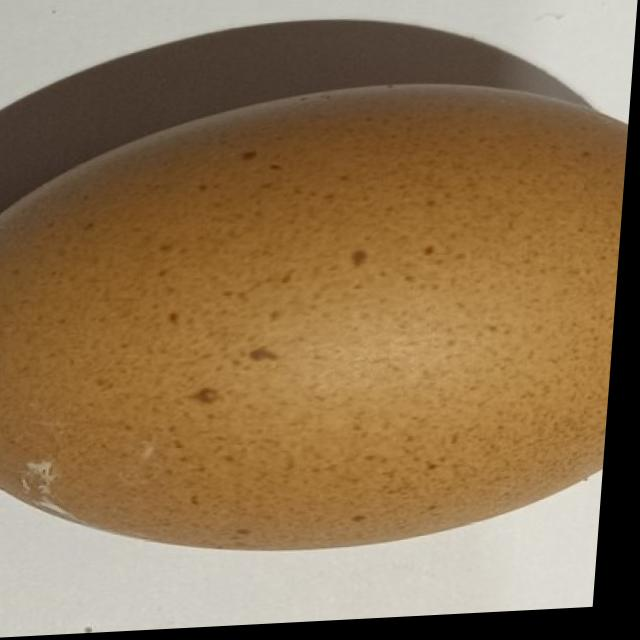unfresh: (0, 89, 633, 568)
